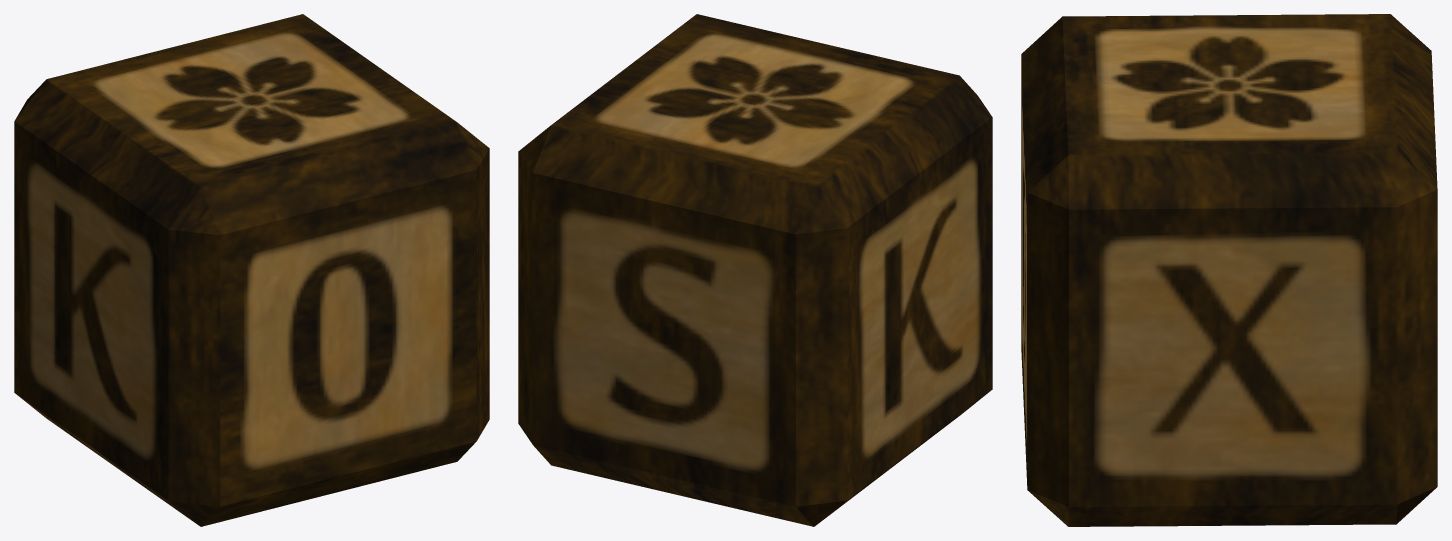
File: Letters_Cube 6.fbx
3 views of the same model, side by side, from view 1: azimuth 30°, elevation 25°; view 2: azimuth 150°, elevation 25°; view 3: azimuth 270°, elevation 25° (orthographic). The views are drawn at different scales.
Visible parts, largest first — view 1: Letters_Cube_6; view 2: Letters_Cube_6; view 3: Letters_Cube_6.
Boxes of the visible parts, x1,y1,x2,y2 form: Letters_Cube_6: (14,14,489,526); Letters_Cube_6: (518,14,992,526); Letters_Cube_6: (1021,14,1437,526).
Bounding box in the file's own units: 8.38 × 8.26 × 8.38.
1 material, 1 textured.
